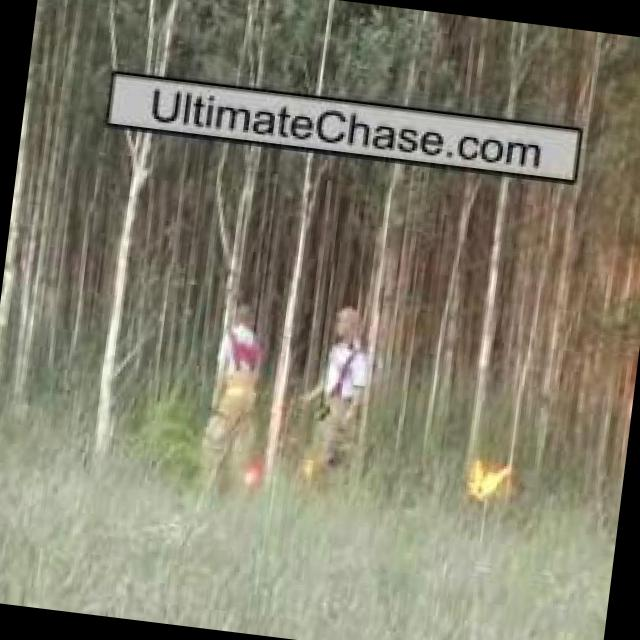Smoke: (465, 459, 512, 507)
